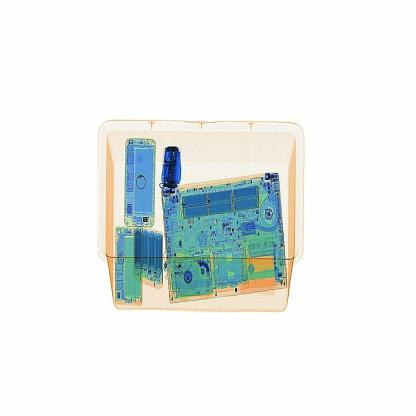scissors: (159, 142, 189, 199)
